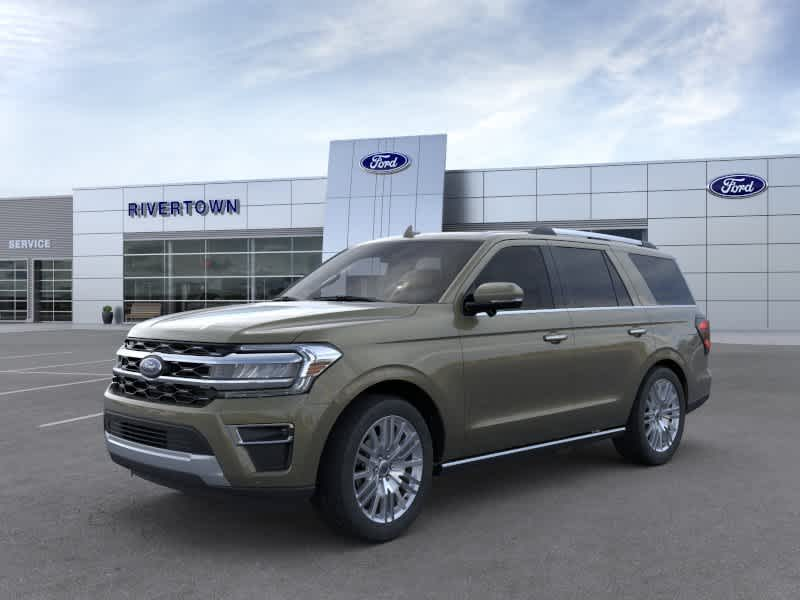car: (96, 220, 715, 546)
